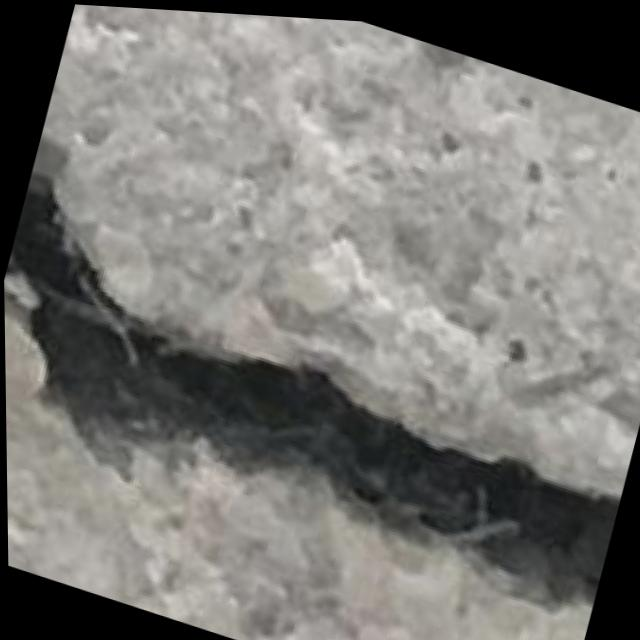Crack: (2, 165, 640, 627)
